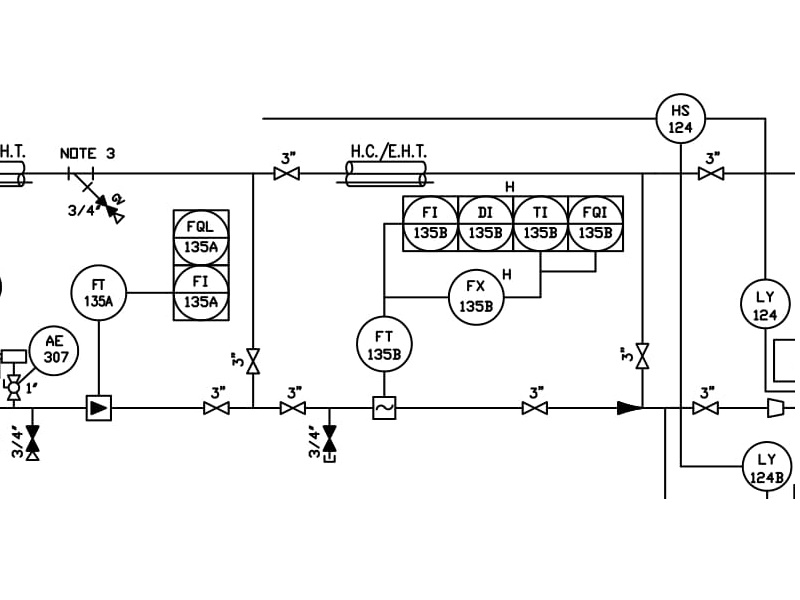Inline Instrument: (445, 266, 507, 328), (69, 260, 128, 322), (355, 313, 414, 375), (27, 320, 82, 376), (737, 276, 792, 329), (738, 439, 793, 492), (652, 91, 707, 144)
Panel Instrument: (170, 205, 233, 268), (399, 192, 462, 255), (509, 191, 572, 254)
